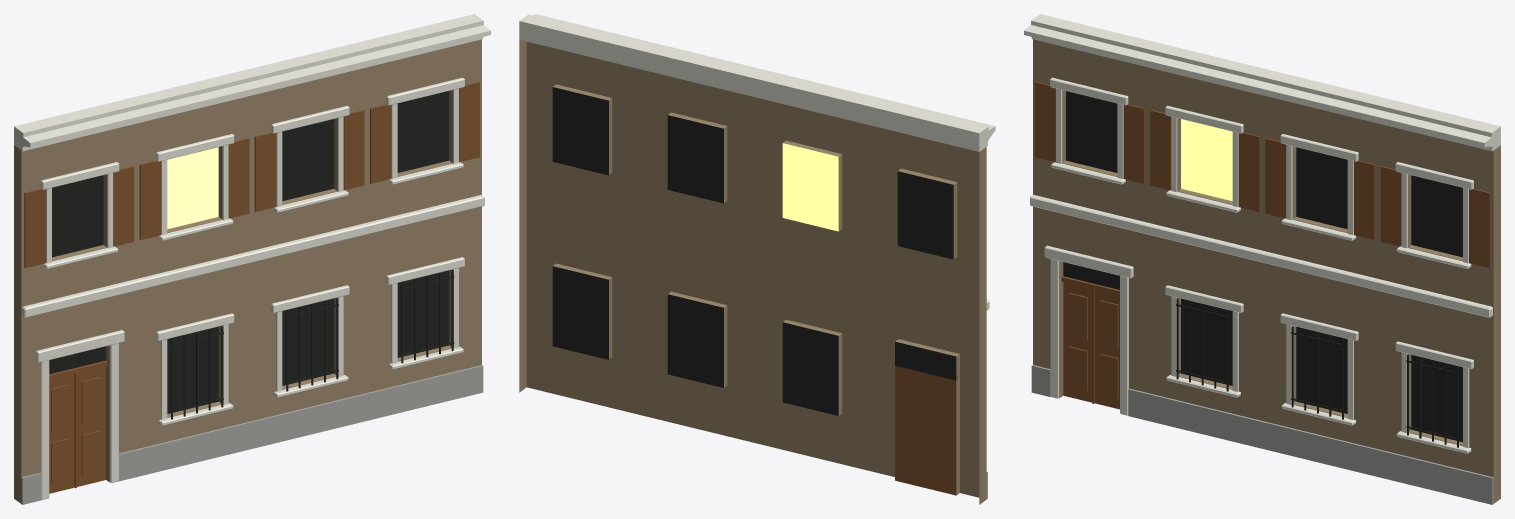
Rendered from fachada_casa_a.glb.
3 renders of one model, left to right at view 1: azimuth 30°, elevation 25°; view 2: azimuth 150°, elevation 25°; view 3: azimuth 330°, elevation 25°, orthographic.
Visible parts, largest first — view 1: pieza_planta_baja, pieza_piso_1, pieza_ventanas_oscuras, pieza_cornisa, pieza_ventanas_luz; view 2: pieza_planta_baja, pieza_piso_1, pieza_ventanas_oscuras, pieza_cornisa, pieza_ventanas_luz; view 3: pieza_planta_baja, pieza_piso_1, pieza_ventanas_oscuras, pieza_cornisa, pieza_ventanas_luz.
Boxes of the visible parts, x1,y1,x2,y2 form: pieza_planta_baja: [14, 195, 484, 504]; pieza_piso_1: [14, 39, 481, 311]; pieza_ventanas_oscuras: [49, 91, 448, 413]; pieza_cornisa: [14, 14, 490, 151]; pieza_ventanas_luz: [167, 147, 218, 229]; pieza_planta_baja: [519, 195, 989, 504]; pieza_piso_1: [519, 40, 986, 311]; pieza_ventanas_oscuras: [552, 87, 956, 415]; pieza_cornisa: [519, 14, 995, 151]; pieza_ventanas_luz: [782, 143, 838, 231]; pieza_planta_baja: [1030, 195, 1500, 504]; pieza_piso_1: [1033, 39, 1500, 311]; pieza_ventanas_oscuras: [1063, 91, 1462, 442]; pieza_cornisa: [1024, 14, 1500, 151]; pieza_ventanas_luz: [1181, 119, 1232, 201].
Size of what is drawn, in the model's own units: 9 by 6.95 by 0.55.
